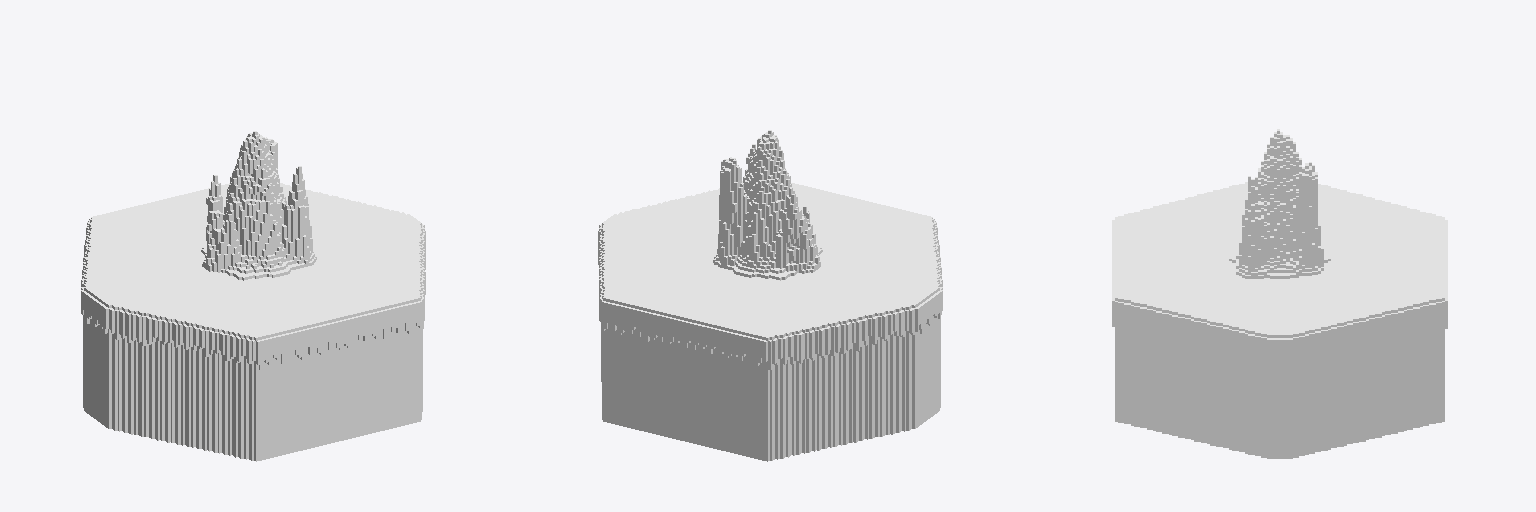
The model's file is hex_mountains.obj.
3 views of the same model, side by side, from view 1: azimuth 30°, elevation 25°; view 2: azimuth 150°, elevation 25°; view 3: azimuth 270°, elevation 25° (orthographic).
Visible parts, largest first — view 1: object 1; view 2: object 1; view 3: object 1.
Boxes of the visible parts, x1,y1,x2,y2 form: object 1: [81, 131, 425, 461]; object 1: [598, 130, 942, 461]; object 1: [1112, 129, 1447, 458].
Size of the model in its own units: 11.8 by 8.7 by 10.6.